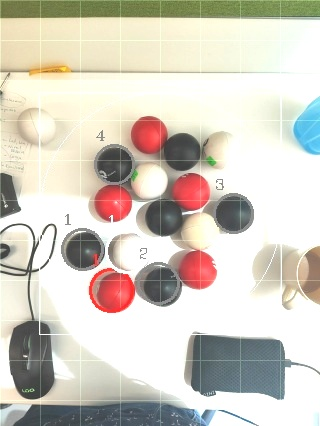Pelota blanca: (106, 230, 153, 272), (0, 222, 36, 275), (177, 209, 219, 251), (15, 105, 57, 147), (292, 95, 320, 158), (201, 129, 241, 171), (295, 244, 320, 307), (129, 161, 169, 200), (201, 409, 259, 425)
Pelota negra: (135, 260, 182, 307), (60, 225, 105, 272), (212, 190, 254, 235), (140, 198, 185, 238), (92, 142, 134, 184), (161, 132, 201, 171), (153, 403, 206, 425)
Pelota roja: (87, 268, 134, 315), (87, 182, 131, 224), (175, 249, 219, 291), (129, 113, 169, 155), (169, 172, 211, 211)
